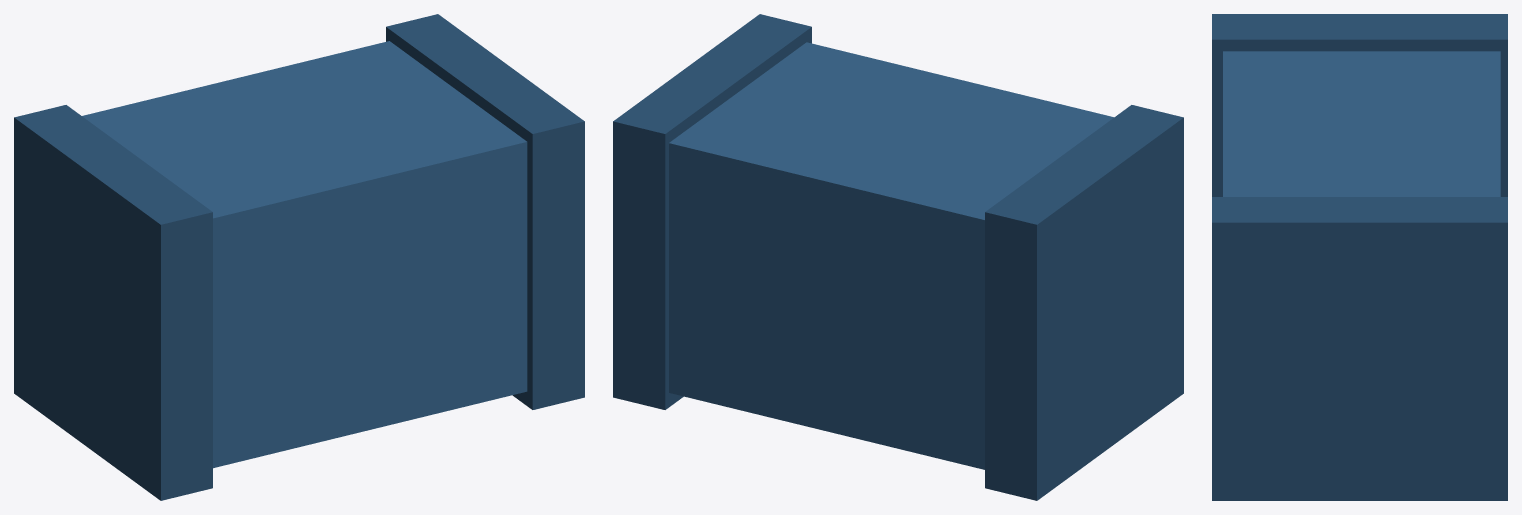
Rendered from Vent_2_C_4.fbx.
The picture shows the model from 3 angles, left to right: view 1: azimuth 30°, elevation 25°; view 2: azimuth 150°, elevation 25°; view 3: azimuth 270°, elevation 25°; orthographic projection.
Visible parts, largest first — view 1: Vent_2_C_4; view 2: Vent_2_C_4; view 3: Vent_2_C_4.
Part boxes in pixels (left/top/right/bottom): Vent_2_C_4: left=14, top=14, right=584, bottom=500; Vent_2_C_4: left=613, top=14, right=1183, bottom=500; Vent_2_C_4: left=1212, top=14, right=1507, bottom=500.
Size of the model in its own units: 59.43 by 36.98 by 35.62.
